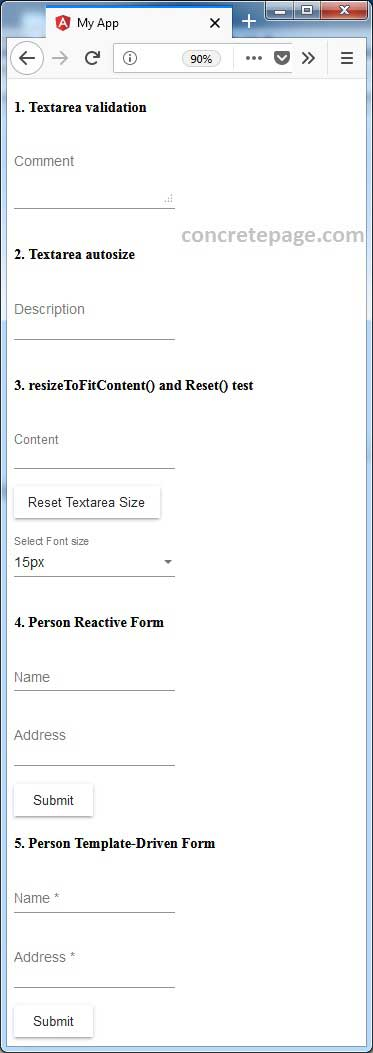button: (9, 484, 166, 522), (9, 781, 90, 821), (12, 1003, 98, 1040)
field_line: (9, 154, 179, 213), (9, 945, 177, 993), (11, 297, 178, 342), (10, 727, 180, 769), (11, 430, 176, 473), (11, 880, 175, 916), (9, 661, 177, 694)
select_line: (11, 536, 178, 580)
